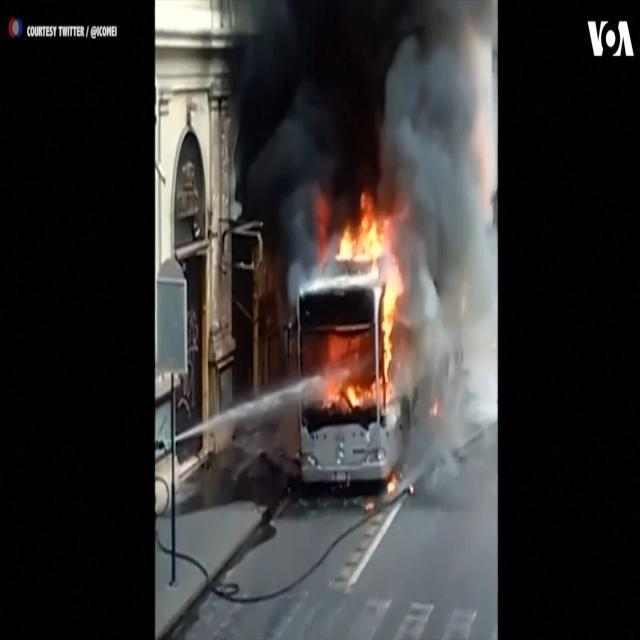fire: (302, 192, 416, 423)
